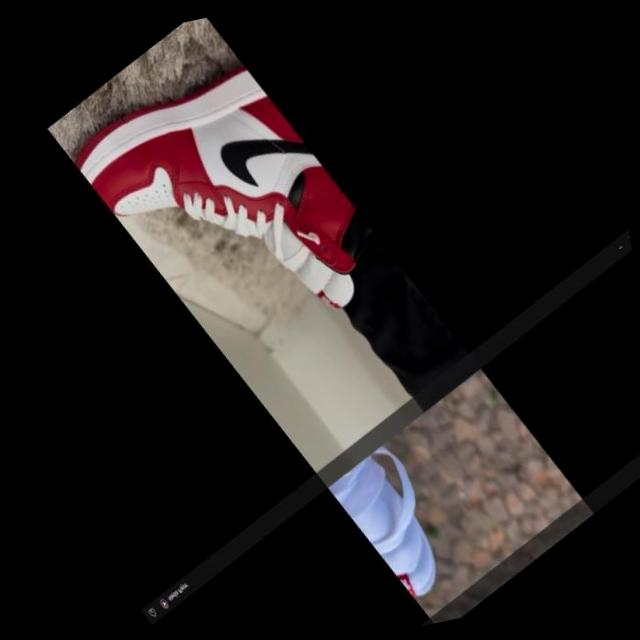nike_original_jordan: (46, 2, 411, 396)
